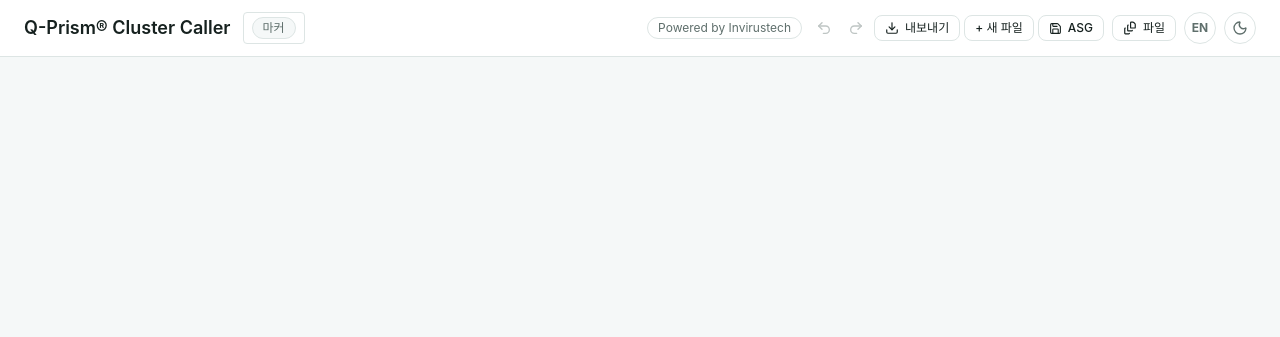
Scenario: lists PPTX, report images and a distinct current-screen image once markers exist
This screenshot has width=1280, height=337.
Click the button "내보내기" at (917, 28), box [874,15,960,41]
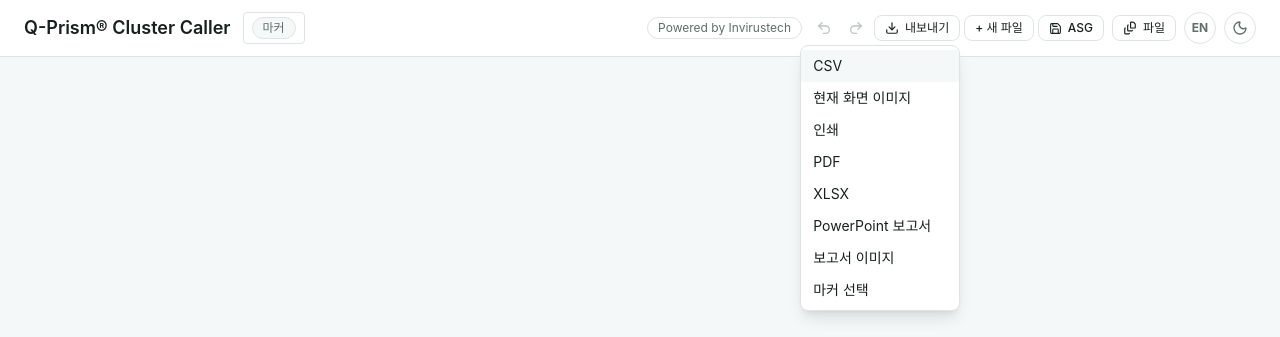
Expected: the menu item "마커 선택" is shown, [801,274,959,306]
Expected: the menu item "PowerPoint 보고서" is shown, [801,210,959,242]
Expected: the menu item "보고서 이미지" is shown, [801,242,959,274]
